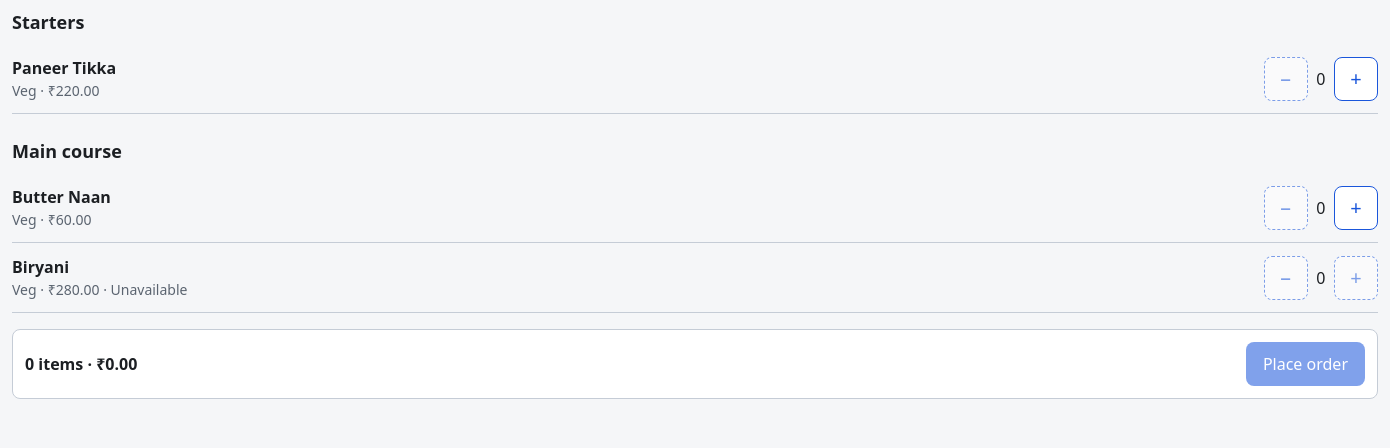
Test case: RestaurantPage: placing the order › sends the same idempotency key when the user tries again
This screenshot has width=1390, height=448.
Click the button named "Add Paneer Tikka". click: {"x": 1356, "y": 78}
box: [1334, 56, 1378, 100]
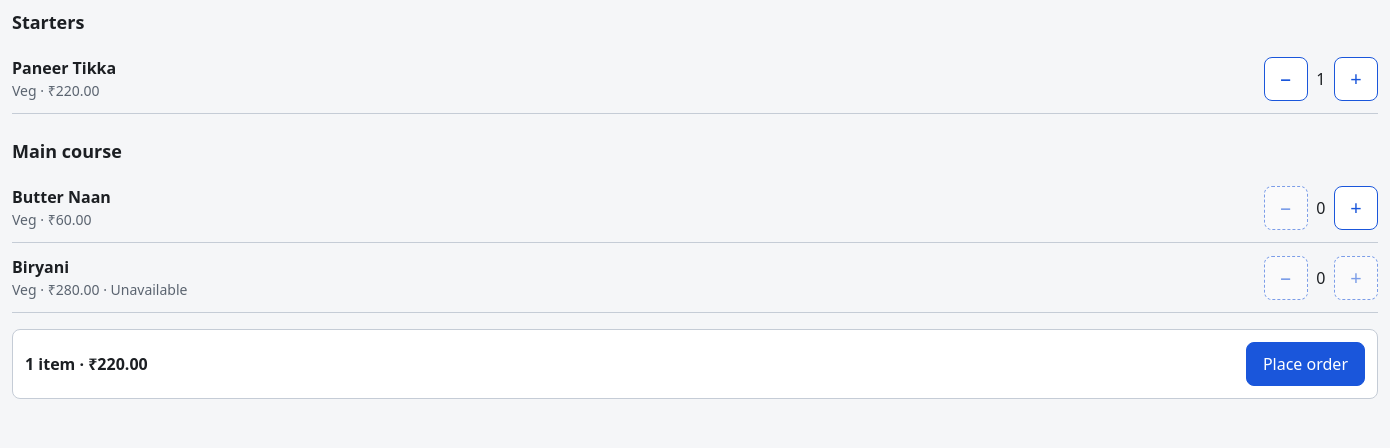
Click the button "Place order". click: {"x": 1305, "y": 364}
box: [1246, 342, 1365, 386]
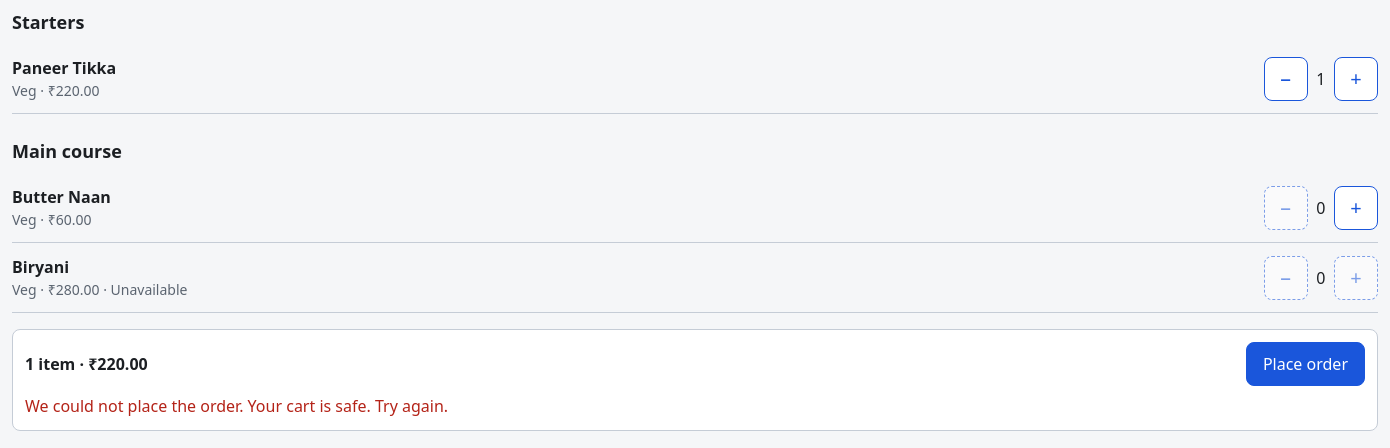
Click the button "Place order". click: {"x": 1305, "y": 364}
box: [1246, 342, 1365, 386]
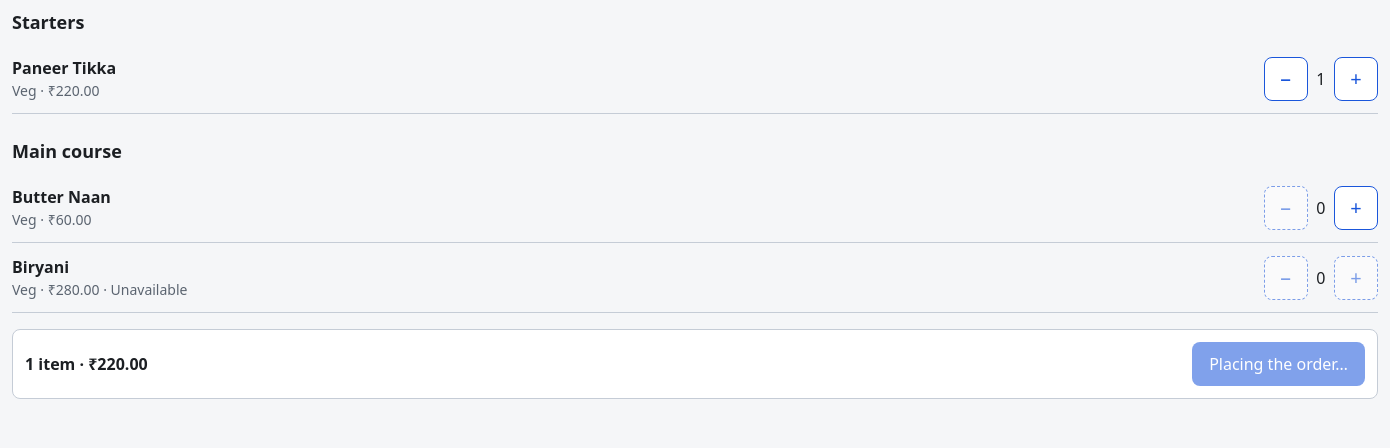
Expected: the message "We could not place the order. Your cart is safe. Try again." is gone
